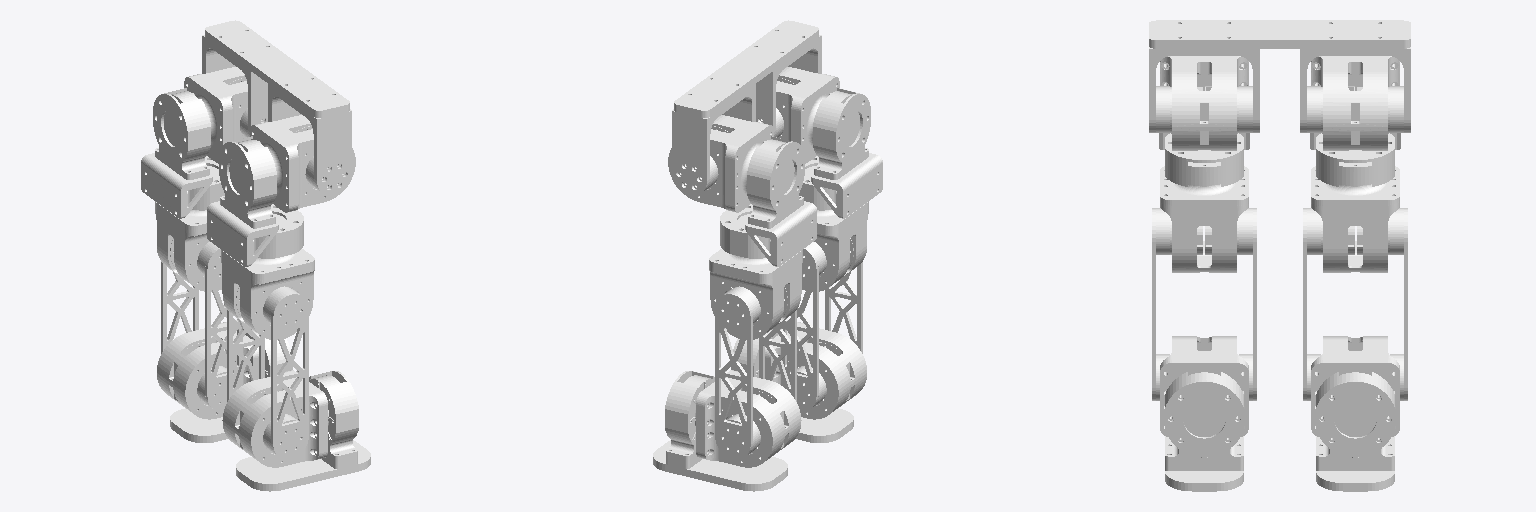
robot.urdf — converted_robot:
<?xml version="1.0" ?>
<robot name="converted_robot">
   <!--generated with mjcf_urdf_simple_converter (https://github.com/Yasu31/mjcf_urdf_simple_converter)-->
   <link name="world">
      <inertial>
         <origin xyz="0.0 0.0 0.0" rpy="0.0 0.0 0.0"/>
         <mass value="0.0"/>
         <inertia ixx="0.0" iyy="0.0" izz="0.0" ixy="0" ixz="0" iyz="0"/>
      </inertial>
   </link>
   <link name="pelvis">
      <inertial>
         <origin xyz="0.0 0.0 0.2" rpy="0.0 0.0 0.0"/>
         <mass value="5.11537484"/>
         <inertia ixx="0.03" iyy="0.03" izz="0.03" ixy="0" ixz="0" iyz="0"/>
      </inertial>
      <visual name="pelvis">
         <origin xyz="2.47764632813843e-09 1.7056346093980415e-08 -0.0628889958727471" rpy="1.5707963267948966 0.0 0.0"/>
         <geometry>
            <mesh filename="converted_pelvis.stl"/>
         </geometry>
         <material name="white"/>
      </visual>
   </link>
   <link name="floating_base_jointbody">
      <inertial>
         <origin xyz="0.0 0.0 0.0" rpy="0.0 0.0 0.0"/>
         <mass value="0.001"/>
         <inertia ixx="1e-09" iyy="1e-09" izz="1e-09" ixy="0" ixz="0" iyz="0"/>
      </inertial>
   </link>
   <joint type="fixed" name="floating_base">
      <parent link="world"/>
      <child link="floating_base_jointbody"/>
      <origin xyz="0.0 0.0 0.6088" rpy="0.0 0.0 0.0"/>
   </joint>
   <joint type="fixed" name="floating_base_offset">
      <parent link="floating_base_jointbody"/>
      <child link="pelvis"/>
      <origin xyz="-0.0 -0.0 -0.0" rpy="0.0 0.0 0.0"/>
   </joint>
   <link name="l_hip_pitch">
      <inertial>
         <origin xyz="-0.01821923 -0.0 -3.205e-05" rpy="1.569617007170609 -4.169155001454428e-06 1.57100088478941"/>
         <mass value="1.8670971"/>
         <inertia ixx="0.003633570040911599" iyy="0.0035800912854579733" izz="0.0026558286736304273" ixy="0" ixz="0" iyz="0"/>
      </inertial>
      <visual name="l_hip_pitch">
         <origin xyz="-0.016426052318942425 3.8693881999687e-07 -6.069910635333717e-06" rpy="1.5710456119730067 0.0002896989381866444 1.570802668524427"/>
         <geometry>
            <mesh filename="converted_l_hip_pitch.stl"/>
         </geometry>
         <material name="white"/>
      </visual>
   </link>
   <link name="l_hip_pitch_jointbody">
      <inertial>
         <origin xyz="0.0 0.0 0.0" rpy="0.0 0.0 0.0"/>
         <mass value="0.001"/>
         <inertia ixx="1e-09" iyy="1e-09" izz="1e-09" ixy="0" ixz="0" iyz="0"/>
      </inertial>
   </link>
   <joint type="revolute" name="l_hip_pitch">
      <parent link="pelvis"/>
      <child link="l_hip_pitch_jointbody"/>
      <origin xyz="0.0 0.0965 -0.112" rpy="0.0 0.0 0.0"/>
      <axis xyz="0.0 1.0 0.0"/>
      <limit lower="-1.3" upper="1.3" effort="100" velocity="100"/>
   </joint>
   <joint type="fixed" name="l_hip_pitch_offset">
      <parent link="l_hip_pitch_jointbody"/>
      <child link="l_hip_pitch"/>
      <origin xyz="-0.0 -0.0 -0.0" rpy="0.0 0.0 0.0"/>
   </joint>
   <link name="l_hip_roll">
      <inertial>
         <origin xyz="-0.01740501 1.764e-05 -0.05845559" rpy="0.0004863223254489439 0.19610377555273417 0.0010392456801208367"/>
         <mass value="2.00459959"/>
         <inertia ixx="0.006611571483374219" iyy="0.006331359985392611" izz="0.0028985185312331704" ixy="0" ixz="0" iyz="0"/>
      </inertial>
      <visual name="l_hip_roll">
         <origin xyz="-0.01736573595523465 2.8464927243536956e-06 -0.05970583053459872" rpy="0.00014232068753268503 -0.18267748790935934 -0.0003902767213758727"/>
         <geometry>
            <mesh filename="converted_l_hip_roll.stl"/>
         </geometry>
         <material name="white"/>
      </visual>
   </link>
   <link name="l_hip_roll_jointbody">
      <inertial>
         <origin xyz="0.0 0.0 0.0" rpy="0.0 0.0 0.0"/>
         <mass value="0.001"/>
         <inertia ixx="1e-09" iyy="1e-09" izz="1e-09" ixy="0" ixz="0" iyz="0"/>
      </inertial>
   </link>
   <joint type="revolute" name="l_hip_roll">
      <parent link="l_hip_pitch"/>
      <child link="l_hip_roll_jointbody"/>
      <origin xyz="-0.07875 0.0 0.0" rpy="0.0 0.0 0.0"/>
      <axis xyz="1.0 0.0 0.0"/>
      <limit lower="-0.4" upper="1.5" effort="100" velocity="100"/>
   </joint>
   <joint type="fixed" name="l_hip_roll_offset">
      <parent link="l_hip_roll_jointbody"/>
      <child link="l_hip_roll"/>
      <origin xyz="-0.0 -0.0 -0.0" rpy="0.0 0.0 0.0"/>
   </joint>
   <link name="l_hip_yaw">
      <inertial>
         <origin xyz="3.205e-05 -0.0 -0.06053076999999999" rpy="0.001179318771453497 0.0002045579945115783 1.5707921576398078"/>
         <mass value="1.8670971"/>
         <inertia ixx="0.003633570040911599" iyy="0.0035800912854579733" izz="0.0026558286736304273" ixy="0" ixz="0" iyz="0"/>
      </inertial>
      <visual name="l_hip_yaw">
         <origin xyz="5.83664874371905e-06 1.7109240304756822e-06 -0.062326293981562565" rpy="-0.0002696017728186506 0.00016457134354230796 1.5707920334258687"/>
         <geometry>
            <mesh filename="converted_l_hip_yaw.stl"/>
         </geometry>
         <material name="white"/>
      </visual>
   </link>
   <link name="l_hip_yaw_jointbody">
      <inertial>
         <origin xyz="0.0 0.0 0.0" rpy="0.0 0.0 0.0"/>
         <mass value="0.001"/>
         <inertia ixx="1e-09" iyy="1e-09" izz="1e-09" ixy="0" ixz="0" iyz="0"/>
      </inertial>
   </link>
   <joint type="revolute" name="l_hip_yaw">
      <parent link="l_hip_roll"/>
      <child link="l_hip_yaw_jointbody"/>
      <origin xyz="0.00715 0.0 -0.1263" rpy="0.0 0.0 0.0"/>
      <axis xyz="0.0 0.0 1.0"/>
      <limit lower="-1.0" upper="1.0" effort="100" velocity="100"/>
   </joint>
   <joint type="fixed" name="l_hip_yaw_offset">
      <parent link="l_hip_yaw_jointbody"/>
      <child link="l_hip_yaw"/>
      <origin xyz="-0.0 -0.0 -0.0" rpy="0.0 0.0 0.0"/>
   </joint>
   <link name="l_knee">
      <inertial>
         <origin xyz="0.0 5e-05 -0.10289321" rpy="0.0 0.0 0.0"/>
         <mass value="0.58007416"/>
         <inertia ixx="0.0070466" iyy="0.00513742" izz="0.00225232" ixy="0" ixz="0" iyz="0"/>
      </inertial>
      <visual name="l_knee">
         <origin xyz="-1.4921539788234289e-09 7.910392518134238e-09 -0.10297404194441043" rpy="0.0 0.0 -3.2172707848725117e-06"/>
         <geometry>
            <mesh filename="converted_l_knee.stl"/>
         </geometry>
         <material name="white"/>
      </visual>
   </link>
   <link name="l_knee_jointbody">
      <inertial>
         <origin xyz="0.0 0.0 0.0" rpy="0.0 0.0 0.0"/>
         <mass value="0.001"/>
         <inertia ixx="1e-09" iyy="1e-09" izz="1e-09" ixy="0" ixz="0" iyz="0"/>
      </inertial>
   </link>
   <joint type="revolute" name="l_knee">
      <parent link="l_hip_yaw"/>
      <child link="l_knee_jointbody"/>
      <origin xyz="0.0 0.0 -0.07875" rpy="0.0 0.0 0.0"/>
      <axis xyz="0.0 1.0 0.0"/>
      <limit lower="-2.0" upper="2.0" effort="100" velocity="100"/>
   </joint>
   <joint type="fixed" name="l_knee_offset">
      <parent link="l_knee_jointbody"/>
      <child link="l_knee"/>
      <origin xyz="-0.0 -0.0 -0.0" rpy="0.0 0.0 0.0"/>
   </joint>
   <link name="l_foot_pitch">
      <inertial>
         <origin xyz="0.01821923 -0.0 -3.205e-05" rpy="1.571975646419184 4.169155001454428e-06 1.57100088478941"/>
         <mass value="1.8670971"/>
         <inertia ixx="0.003633570040911599" iyy="0.0035800912854579733" izz="0.0026558286736304273" ixy="0" ixz="0" iyz="0"/>
      </inertial>
      <visual name="l_foot_pitch">
         <origin xyz="0.01642265215060797 -2.5247692832924115e-06 -6.3433757846142034e-06" rpy="1.5705709613898433 -2.2427544625447382e-05 1.5706413297236463"/>
         <geometry>
            <mesh filename="converted_l_foot_pitch.stl"/>
         </geometry>
         <material name="white"/>
      </visual>
   </link>
   <link name="l_foot_pitch_jointbody">
      <inertial>
         <origin xyz="0.0 0.0 0.0" rpy="0.0 0.0 0.0"/>
         <mass value="0.001"/>
         <inertia ixx="1e-09" iyy="1e-09" izz="1e-09" ixy="0" ixz="0" iyz="0"/>
      </inertial>
   </link>
   <joint type="revolute" name="l_foot_pitch">
      <parent link="l_knee"/>
      <child link="l_foot_pitch_jointbody"/>
      <origin xyz="0.0 0.0 -0.206" rpy="0.0 0.0 0.0"/>
      <axis xyz="0.0 1.0 0.0"/>
      <limit lower="-2.0" upper="2.0" effort="100" velocity="100"/>
   </joint>
   <joint type="fixed" name="l_foot_pitch_offset">
      <parent link="l_foot_pitch_jointbody"/>
      <child link="l_foot_pitch"/>
      <origin xyz="-0.0 -0.0 -0.0" rpy="0.0 0.0 0.0"/>
   </joint>
   <link name="l_foot_roll">
      <inertial>
         <origin xyz="0.00757956 1.139e-05 -0.03942379" rpy="2.3433878067998437 -0.0008879622578734647 1.569836156558178"/>
         <mass value="1.5526793"/>
         <inertia ixx="0.005416700784880941" iyy="0.004963623876621819" izz="0.0028013153384972476" ixy="0" ixz="0" iyz="0"/>
      </inertial>
      <visual name="l_foot_roll">
         <origin xyz="0.007994183510704024 1.1742462541293414e-05 -0.03811882374488236" rpy="0.805359327591217 -0.00015554951913299142 1.5712645041576923"/>
         <geometry>
            <mesh filename="converted_l_foot_roll.stl"/>
         </geometry>
         <material name="white"/>
      </visual>
   </link>
   <link name="l_foot_roll_jointbody">
      <inertial>
         <origin xyz="0.0 0.0 0.0" rpy="0.0 0.0 0.0"/>
         <mass value="0.001"/>
         <inertia ixx="1e-09" iyy="1e-09" izz="1e-09" ixy="0" ixz="0" iyz="0"/>
      </inertial>
   </link>
   <joint type="revolute" name="l_foot_roll">
      <parent link="l_foot_pitch"/>
      <child link="l_foot_roll_jointbody"/>
      <origin xyz="0.07875 0.0 0.0" rpy="0.0 0.0 0.0"/>
      <axis xyz="1.0 0.0 0.0"/>
      <limit lower="-1.0" upper="1.0" effort="100" velocity="100"/>
   </joint>
   <joint type="fixed" name="l_foot_roll_offset">
      <parent link="l_foot_roll_jointbody"/>
      <child link="l_foot_roll"/>
      <origin xyz="-0.0 -0.0 -0.0" rpy="0.0 0.0 0.0"/>
   </joint>
   <link name="r_hip_pitch">
      <inertial>
         <origin xyz="-0.01821923 -0.0 -3.205e-05" rpy="1.569617007170609 -4.169155001454428e-06 1.57100088478941"/>
         <mass value="1.8670971"/>
         <inertia ixx="0.003633570040911599" iyy="0.0035800912854579733" izz="0.0026558286736304273" ixy="0" ixz="0" iyz="0"/>
      </inertial>
      <visual name="r_hip_pitch">
         <origin xyz="-0.016426052311187045 -3.8697664800539455e-07 -6.069910157291952e-06" rpy="1.571045608706061 -0.0002897102791530326 1.5707899781964318"/>
         <geometry>
            <mesh filename="converted_r_hip_pitch.stl"/>
         </geometry>
         <material name="white"/>
      </visual>
   </link>
   <link name="r_hip_pitch_jointbody">
      <inertial>
         <origin xyz="0.0 0.0 0.0" rpy="0.0 0.0 0.0"/>
         <mass value="0.001"/>
         <inertia ixx="1e-09" iyy="1e-09" izz="1e-09" ixy="0" ixz="0" iyz="0"/>
      </inertial>
   </link>
   <joint type="revolute" name="r_hip_pitch">
      <parent link="pelvis"/>
      <child link="r_hip_pitch_jointbody"/>
      <origin xyz="0.0 -0.0965 -0.112" rpy="0.0 0.0 0.0"/>
      <axis xyz="0.0 1.0 0.0"/>
      <limit lower="-1.3" upper="1.3" effort="100" velocity="100"/>
   </joint>
   <joint type="fixed" name="r_hip_pitch_offset">
      <parent link="r_hip_pitch_jointbody"/>
      <child link="r_hip_pitch"/>
      <origin xyz="-0.0 -0.0 -0.0" rpy="0.0 0.0 0.0"/>
   </joint>
   <link name="r_hip_roll">
      <inertial>
         <origin xyz="-0.01740501 1.764e-05 -0.05845559" rpy="0.0004863223254489439 0.19610377555273417 0.0010392456801208367"/>
         <mass value="2.00459959"/>
         <inertia ixx="0.006611571483374219" iyy="0.006331359985392611" izz="0.0028985185312331704" ixy="0" ixz="0" iyz="0"/>
      </inertial>
      <visual name="r_hip_roll">
         <origin xyz="-0.01736573590596694 -2.846560797212238e-06 -0.059705830517740546" rpy="-0.0001423206363125254 -0.18267748889084268 0.0003902816912764815"/>
         <geometry>
            <mesh filename="converted_r_hip_roll.stl"/>
         </geometry>
         <material name="white"/>
      </visual>
   </link>
   <link name="r_hip_roll_jointbody">
      <inertial>
         <origin xyz="0.0 0.0 0.0" rpy="0.0 0.0 0.0"/>
         <mass value="0.001"/>
         <inertia ixx="1e-09" iyy="1e-09" izz="1e-09" ixy="0" ixz="0" iyz="0"/>
      </inertial>
   </link>
   <joint type="revolute" name="r_hip_roll">
      <parent link="r_hip_pitch"/>
      <child link="r_hip_roll_jointbody"/>
      <origin xyz="-0.07875 0.0 0.0" rpy="0.0 0.0 0.0"/>
      <axis xyz="1.0 0.0 0.0"/>
      <limit lower="-1.5" upper="0.4" effort="100" velocity="100"/>
   </joint>
   <joint type="fixed" name="r_hip_roll_offset">
      <parent link="r_hip_roll_jointbody"/>
      <child link="r_hip_roll"/>
      <origin xyz="-0.0 -0.0 -0.0" rpy="0.0 0.0 0.0"/>
   </joint>
   <link name="r_hip_yaw">
      <inertial>
         <origin xyz="3.205e-05 -0.0 -0.06053076999999999" rpy="0.001179318771453497 0.0002045579945115783 1.5707921576398078"/>
         <mass value="1.8670971"/>
         <inertia ixx="0.003633570040911599" iyy="0.0035800912854579733" izz="0.0026558286736304273" ixy="0" ixz="0" iyz="0"/>
      </inertial>
      <visual name="r_hip_yaw">
         <origin xyz="5.8366539332816436e-06 -1.7109134866172812e-06 -0.06232629396045607" rpy="-0.00026959739179754916 -0.0001645742933347183 1.5708006286735454"/>
         <geometry>
            <mesh filename="converted_r_hip_yaw.stl"/>
         </geometry>
         <material name="white"/>
      </visual>
   </link>
   <link name="r_hip_yaw_jointbody">
      <inertial>
         <origin xyz="0.0 0.0 0.0" rpy="0.0 0.0 0.0"/>
         <mass value="0.001"/>
         <inertia ixx="1e-09" iyy="1e-09" izz="1e-09" ixy="0" ixz="0" iyz="0"/>
      </inertial>
   </link>
   <joint type="revolute" name="r_hip_yaw">
      <parent link="r_hip_roll"/>
      <child link="r_hip_yaw_jointbody"/>
      <origin xyz="0.00715 0.0 -0.1263" rpy="0.0 0.0 0.0"/>
      <axis xyz="0.0 0.0 1.0"/>
      <limit lower="-1.0" upper="1.0" effort="100" velocity="100"/>
   </joint>
   <joint type="fixed" name="r_hip_yaw_offset">
      <parent link="r_hip_yaw_jointbody"/>
      <child link="r_hip_yaw"/>
      <origin xyz="-0.0 -0.0 -0.0" rpy="0.0 0.0 0.0"/>
   </joint>
   <link name="r_knee">
      <inertial>
         <origin xyz="0.0 5e-05 -0.10289321" rpy="0.0 0.0 0.0"/>
         <mass value="0.58007416"/>
         <inertia ixx="0.0070466" iyy="0.00513742" izz="0.00225232" ixy="0" ixz="0" iyz="0"/>
      </inertial>
      <visual name="l_knee">
         <origin xyz="-1.4921539788234289e-09 7.910392518134238e-09 -0.10297404194441043" rpy="0.0 0.0 -3.2172707848725117e-06"/>
         <geometry>
            <mesh filename="converted_l_knee.stl"/>
         </geometry>
         <material name="white"/>
      </visual>
   </link>
   <link name="r_knee_jointbody">
      <inertial>
         <origin xyz="0.0 0.0 0.0" rpy="0.0 0.0 0.0"/>
         <mass value="0.001"/>
         <inertia ixx="1e-09" iyy="1e-09" izz="1e-09" ixy="0" ixz="0" iyz="0"/>
      </inertial>
   </link>
   <joint type="revolute" name="r_knee">
      <parent link="r_hip_yaw"/>
      <child link="r_knee_jointbody"/>
      <origin xyz="0.0 0.0 -0.07875" rpy="0.0 0.0 0.0"/>
      <axis xyz="0.0 1.0 0.0"/>
      <limit lower="-2.0" upper="2.0" effort="100" velocity="100"/>
   </joint>
   <joint type="fixed" name="r_knee_offset">
      <parent link="r_knee_jointbody"/>
      <child link="r_knee"/>
      <origin xyz="-0.0 -0.0 -0.0" rpy="0.0 0.0 0.0"/>
   </joint>
   <link name="r_foot_pitch">
      <inertial>
         <origin xyz="0.01821923 -0.0 -3.205e-05" rpy="1.571975646419184 4.169155001454428e-06 1.57100088478941"/>
         <mass value="1.8670971"/>
         <inertia ixx="0.003633570040911599" iyy="0.0035800912854579733" izz="0.0026558286736304273" ixy="0" ixz="0" iyz="0"/>
      </inertial>
      <visual name="l_foot_pitch">
         <origin xyz="0.01642265215060797 -2.5247692832924115e-06 -6.3433757846142034e-06" rpy="1.5705709613898433 -2.2427544625447382e-05 1.5706413297236463"/>
         <geometry>
            <mesh filename="converted_l_foot_pitch.stl"/>
         </geometry>
         <material name="white"/>
      </visual>
   </link>
   <link name="r_foot_pitch_jointbody">
      <inertial>
         <origin xyz="0.0 0.0 0.0" rpy="0.0 0.0 0.0"/>
         <mass value="0.001"/>
         <inertia ixx="1e-09" iyy="1e-09" izz="1e-09" ixy="0" ixz="0" iyz="0"/>
      </inertial>
   </link>
   <joint type="revolute" name="r_foot_pitch">
      <parent link="r_knee"/>
      <child link="r_foot_pitch_jointbody"/>
      <origin xyz="0.0 0.0 -0.206" rpy="0.0 0.0 0.0"/>
      <axis xyz="0.0 1.0 0.0"/>
      <limit lower="-2.0" upper="2.0" effort="100" velocity="100"/>
   </joint>
   <joint type="fixed" name="r_foot_pitch_offset">
      <parent link="r_foot_pitch_jointbody"/>
      <child link="r_foot_pitch"/>
      <origin xyz="-0.0 -0.0 -0.0" rpy="0.0 0.0 0.0"/>
   </joint>
   <link name="r_foot_roll">
      <inertial>
         <origin xyz="0.00757956 1.139e-05 -0.03942379" rpy="2.3433878067998437 -0.0008879622578734647 1.569836156558178"/>
         <mass value="1.5526793"/>
         <inertia ixx="0.005416700784880941" iyy="0.004963623876621819" izz="0.0028013153384972476" ixy="0" ixz="0" iyz="0"/>
      </inertial>
      <visual name="l_foot_roll">
         <origin xyz="0.007994183510704024 1.1742462541293414e-05 -0.03811882374488236" rpy="0.805359327591217 -0.00015554951913299142 1.5712645041576923"/>
         <geometry>
            <mesh filename="converted_l_foot_roll.stl"/>
         </geometry>
         <material name="white"/>
      </visual>
   </link>
   <link name="r_foot_roll_jointbody">
      <inertial>
         <origin xyz="0.0 0.0 0.0" rpy="0.0 0.0 0.0"/>
         <mass value="0.001"/>
         <inertia ixx="1e-09" iyy="1e-09" izz="1e-09" ixy="0" ixz="0" iyz="0"/>
      </inertial>
   </link>
   <joint type="revolute" name="r_foot_roll">
      <parent link="r_foot_pitch"/>
      <child link="r_foot_roll_jointbody"/>
      <origin xyz="0.07875 0.0 0.0" rpy="0.0 0.0 0.0"/>
      <axis xyz="1.0 0.0 0.0"/>
      <limit lower="-1.0" upper="1.0" effort="100" velocity="100"/>
   </joint>
   <joint type="fixed" name="r_foot_roll_offset">
      <parent link="r_foot_roll_jointbody"/>
      <child link="r_foot_roll"/>
      <origin xyz="-0.0 -0.0 -0.0" rpy="0.0 0.0 0.0"/>
   </joint>
   <material name="white">
      <color rgba="1 1 1 1"/>
   </material>
</robot>

--- Render facts (derived) ---
Views: 3 orthographic renders of the robot side by side, from view 1: azimuth 30°, elevation 25°; view 2: azimuth 150°, elevation 25°; view 3: azimuth 270°, elevation 25°.
Model converted_robot with 27 links and 26 joints (12 revolute, 14 fixed), rooted at world, posed every joint at zero.
Links seen in each view (by area): view 1: pelvis, r_hip_roll, l_hip_roll, r_knee, r_foot_roll, r_foot_pitch, r_hip_yaw, l_knee, r_hip_pitch, l_foot_pitch, l_hip_pitch, l_hip_yaw (+1 smaller); view 2: pelvis, l_hip_roll, r_hip_roll, l_knee, l_foot_roll, l_foot_pitch, l_hip_yaw, r_knee, l_hip_pitch, r_foot_pitch, r_hip_pitch, r_hip_yaw (+1 smaller); view 3: pelvis, l_foot_roll, r_foot_roll, l_hip_pitch, r_hip_pitch, l_hip_yaw, r_hip_yaw, l_foot_pitch, r_foot_pitch, l_knee, r_knee, l_hip_roll (+1 smaller).
Link boxes in pixels (x1,y1,x2,y2): pelvis: (202,20,351,195); r_hip_roll: (207,136,303,266); l_hip_roll: (141,88,224,218); r_knee: (227,288,308,459); r_foot_roll: (236,371,370,491); r_foot_pitch: (222,370,327,467); r_hip_yaw: (221,249,314,339); l_knee: (161,243,242,410); r_hip_pitch: (250,115,355,212); l_foot_pitch: (157,322,258,419); l_hip_pitch: (184,67,247,163); l_hip_yaw: (155,201,221,291); pelvis: (672,20,821,195); l_hip_roll: (720,136,816,266); r_hip_roll: (799,88,882,218); l_knee: (715,288,796,459); l_foot_roll: (653,371,787,491); l_foot_pitch: (696,370,801,467); l_hip_yaw: (709,249,802,339); r_knee: (781,243,862,410); l_hip_pitch: (668,115,773,212); r_foot_pitch: (765,322,866,419); r_hip_pitch: (776,67,839,163); r_hip_yaw: (802,201,868,291); pelvis: (1149,20,1410,132); l_foot_roll: (1316,372,1394,491); r_foot_roll: (1165,372,1243,491); l_hip_pitch: (1311,56,1399,150); r_hip_pitch: (1160,56,1248,150); l_hip_yaw: (1311,166,1399,272); r_hip_yaw: (1160,166,1248,272); l_foot_pitch: (1311,336,1399,436); r_foot_pitch: (1160,336,1248,436); l_knee: (1303,208,1407,400); r_knee: (1152,208,1256,400); l_hip_roll: (1310,133,1400,186).
Bounding box of the posed robot: 0.2298 × 0.336 × 0.6088 m (x, y, z).
13 mesh visuals loaded from 10 distinct referenced files (10 binary STL).
